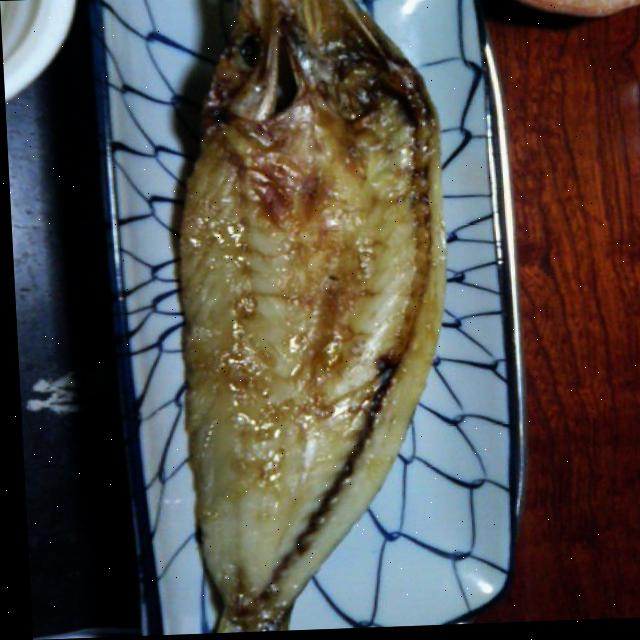熟制海鲜: (163, 0, 467, 635)
